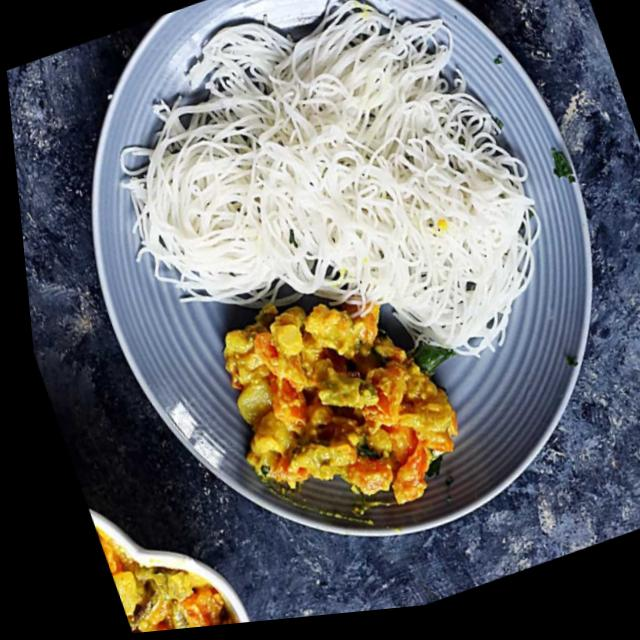IDIYAPPAM: (140, 0, 542, 356)
VEGGIES: (224, 301, 451, 507)
